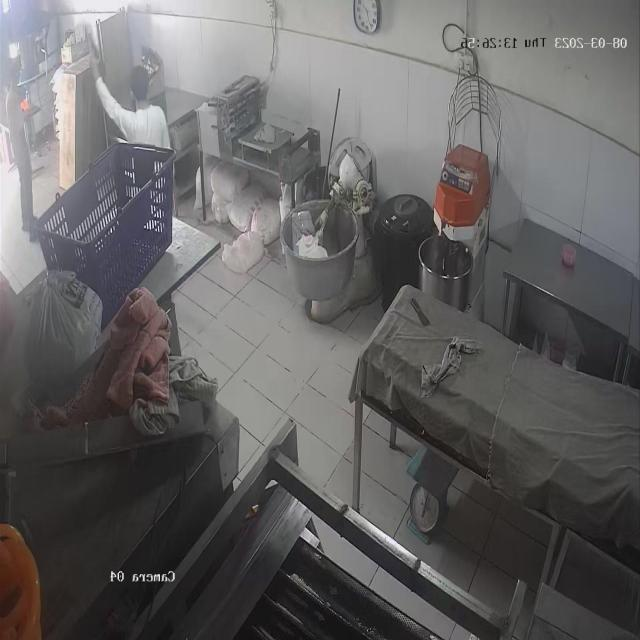Gun: (86, 37, 110, 84)
